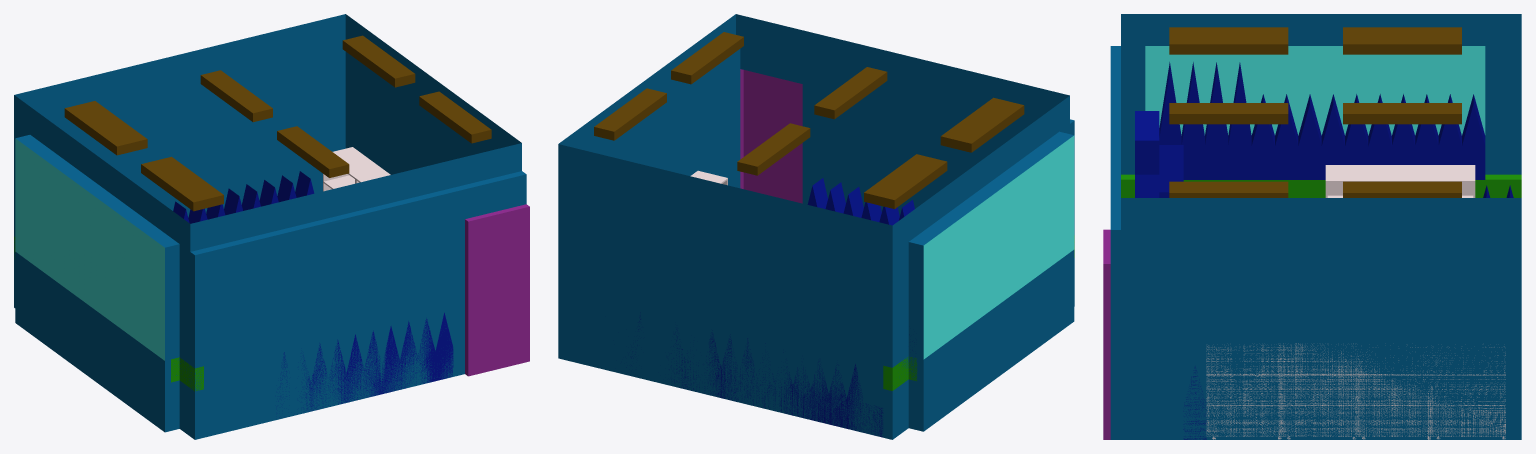
3 views of the same model, side by side, from view 1: azimuth 30°, elevation 25°; view 2: azimuth 150°, elevation 25°; view 3: azimuth 270°, elevation 25° (orthographic). The views are drawn at different scales.
Visible parts, largest first — view 1: Group10, Group9, Group11, Group6, Group2, Group4, Group3, Group5, Group7, AbsorptionWedge12, AbsorptionWedge25, Group8 (+7 smaller); view 2: Group10, Group9, Group11, Group2, Group6, Group7, Group5, Group3, Group4, Group8, AbsorptionWedge23, AbsorptionWedge31 (+3 smaller); view 3: Group10, Group9, Group2, Group6, Group5, Group7, Group20, Group8, Group41, Group3, Group4, Group33 (+22 smaller).
Part boxes in pixels (bbox=[...]): Group10: bbox=[14, 14, 526, 439]; Group9: bbox=[15, 138, 164, 360]; Group11: bbox=[465, 204, 529, 376]; Group6: bbox=[64, 101, 147, 155]; Group2: bbox=[141, 156, 223, 211]; Group4: bbox=[342, 35, 415, 87]; Group3: bbox=[419, 91, 491, 143]; Group5: bbox=[277, 126, 349, 177]; Group7: bbox=[200, 70, 272, 122]; AbsorptionWedge12: bbox=[435, 312, 453, 380]; AbsorptionWedge25: bbox=[382, 326, 399, 394]; Group8: bbox=[14, 236, 203, 391]; Group10: bbox=[558, 14, 1074, 439]; Group9: bbox=[923, 135, 1074, 359]; Group11: bbox=[740, 69, 802, 203]; Group2: bbox=[940, 97, 1024, 152]; Group6: bbox=[864, 154, 947, 208]; Group7: bbox=[737, 123, 810, 175]; Group5: bbox=[814, 67, 887, 119]; Group3: bbox=[671, 32, 743, 84]; Group4: bbox=[594, 88, 666, 140]; Group8: bbox=[883, 235, 1074, 390]; AbsorptionWedge23: bbox=[828, 364, 846, 428]; AbsorptionWedge31: bbox=[810, 361, 828, 424]; Group10: bbox=[1110, 14, 1521, 439]; Group9: bbox=[1145, 46, 1485, 135]; Group2: bbox=[1169, 27, 1288, 54]; Group6: bbox=[1343, 27, 1461, 54]; Group5: bbox=[1169, 103, 1288, 124]; Group7: bbox=[1343, 103, 1461, 124]; Group20: bbox=[1281, 343, 1356, 436]; Group8: bbox=[1121, 174, 1521, 197]; Group41: bbox=[1206, 345, 1281, 436]; Group3: bbox=[1169, 181, 1288, 197]; Group4: bbox=[1343, 181, 1461, 197]; Group33: bbox=[1356, 347, 1430, 436].
Bounding box in the file's own units: 4.87 × 2.86 × 4.48.
